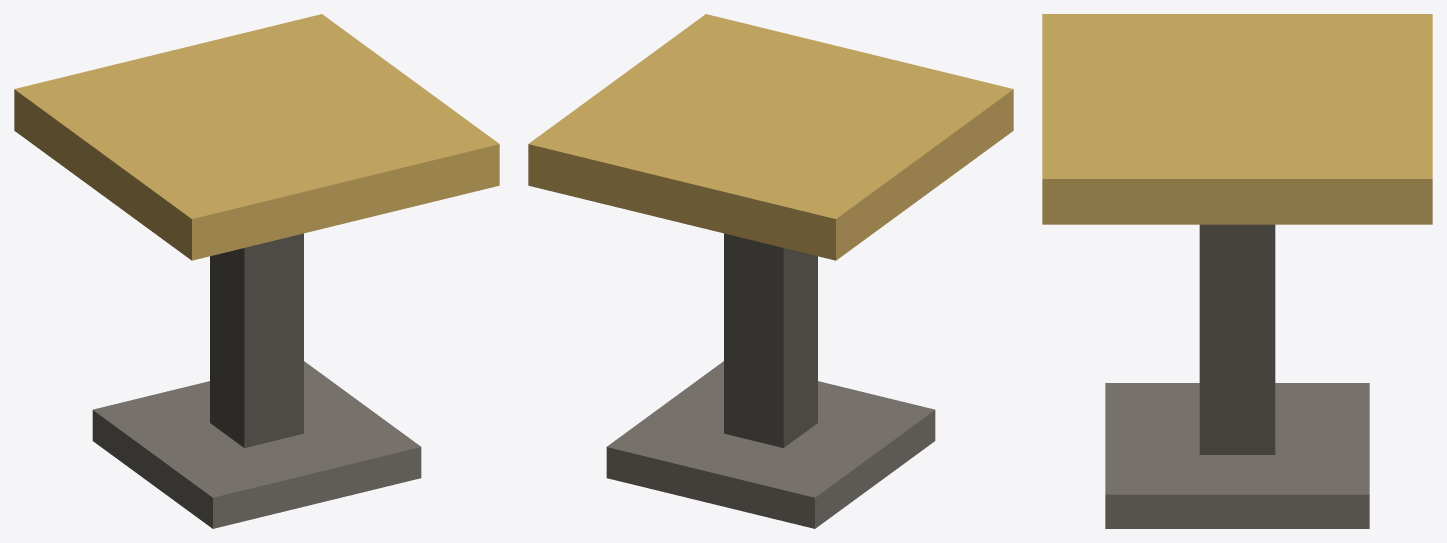
The model's file is proxy-halo-table.glb.
The picture shows the model from 3 angles, left to right: view 1: azimuth 30°, elevation 25°; view 2: azimuth 150°, elevation 25°; view 3: azimuth 270°, elevation 25°; orthographic projection. The views are drawn at different scales.
Bounding box in the file's own units: 0.62 × 0.66 × 0.62.
